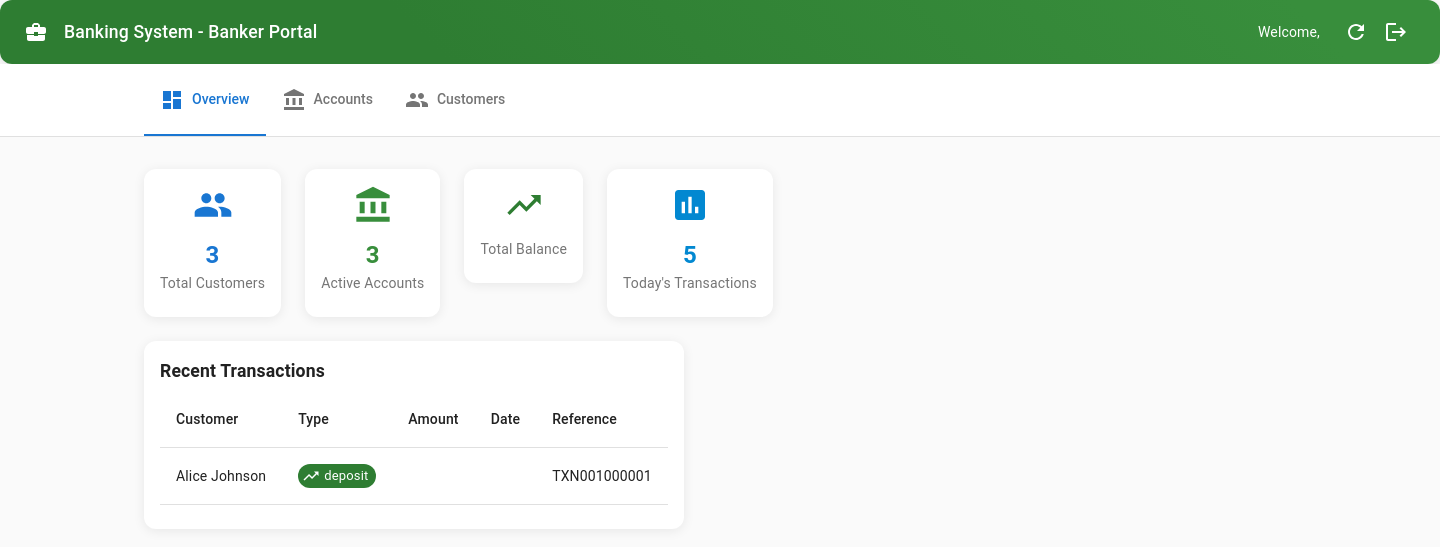
Test: BankerDashboard › switches between tabs
Click the tab "Accounts" at (327, 100), box [266,64,389,136]
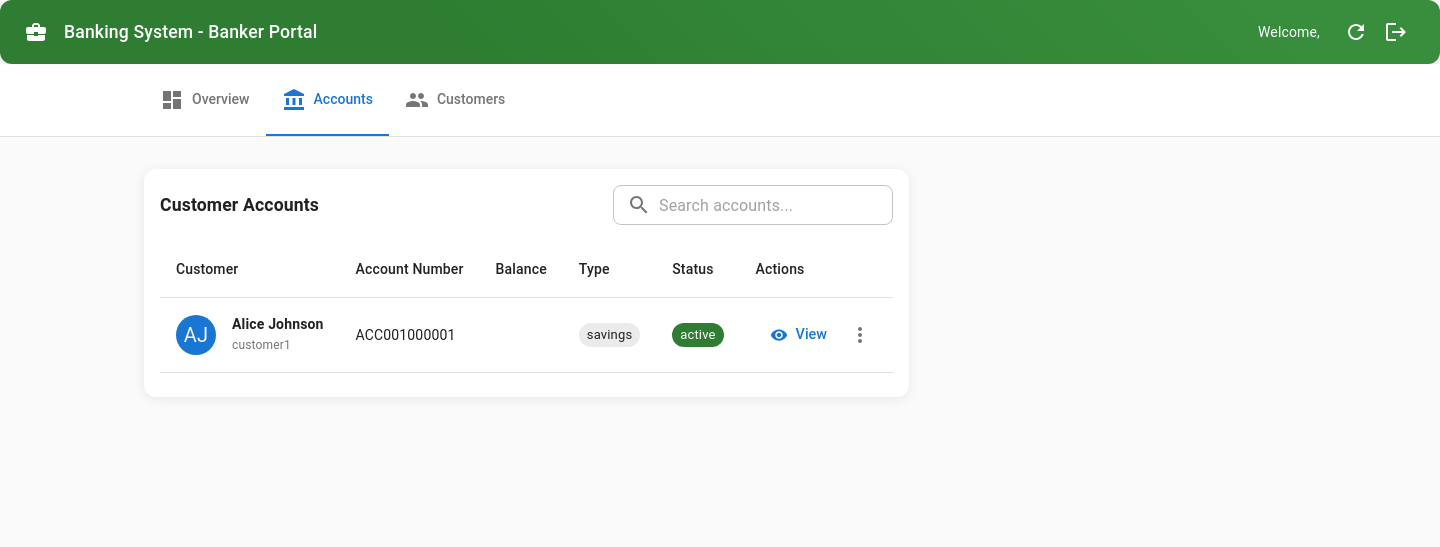
Check: the heading "Customer Accounts" is shown, box [160,191,319,219]
